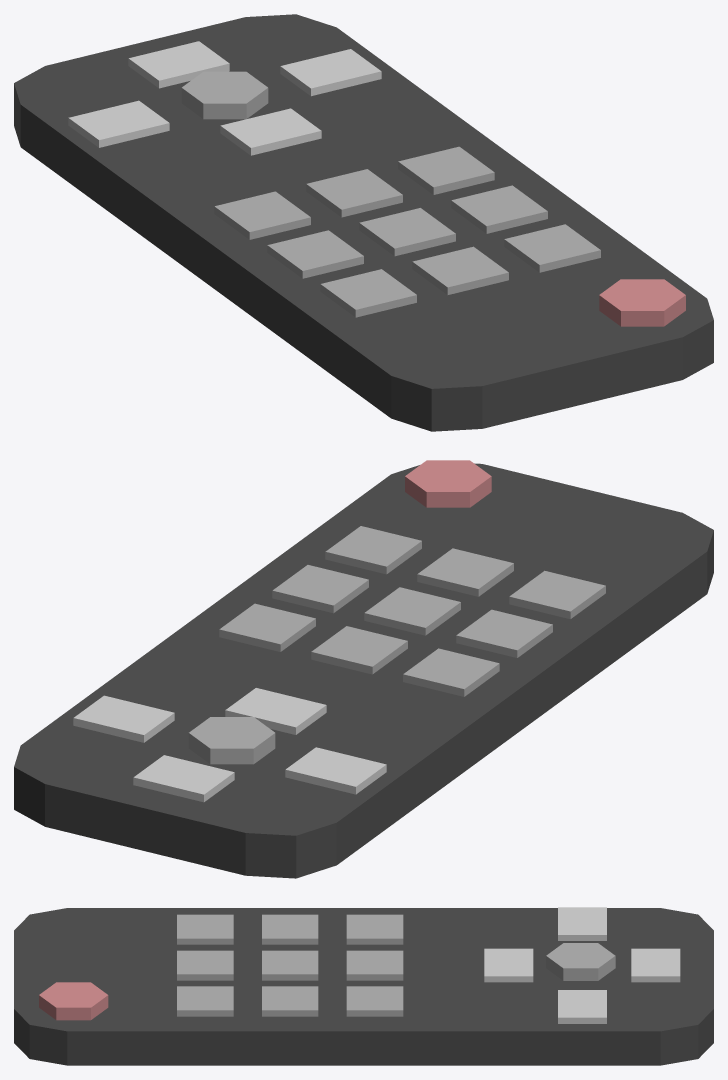
The model's file is tv_remote.fbx.
3 renders of one model, top to bottom at view 1: azimuth 30°, elevation 25°; view 2: azimuth 150°, elevation 25°; view 3: azimuth 270°, elevation 25°, orthographic. The views are drawn at different scales.
Parts seen in each view (by area): view 1: Cube.006, Cube.007, Cube.011, Cylinder.010, Cylinder.009; view 2: Cube.006, Cube.007, Cube.011, Cylinder.010, Cylinder.009; view 3: Cube.006, Cube.007, Cube.011, Cylinder.009, Cylinder.010.
Part boxes in pixels (bbox=[...]): Cube.006: bbox=[14, 14, 713, 431]; Cube.007: bbox=[214, 146, 600, 317]; Cube.011: bbox=[68, 41, 381, 155]; Cylinder.010: bbox=[181, 71, 268, 119]; Cylinder.009: bbox=[599, 279, 685, 326]; Cube.006: bbox=[14, 463, 713, 878]; Cube.007: bbox=[219, 526, 605, 696]; Cube.011: bbox=[73, 688, 386, 802]; Cylinder.010: bbox=[188, 717, 275, 764]; Cylinder.009: bbox=[405, 460, 491, 507]; Cube.006: bbox=[14, 908, 713, 1065]; Cube.007: bbox=[177, 914, 403, 1016]; Cube.011: bbox=[484, 907, 680, 1023]; Cylinder.009: bbox=[39, 982, 108, 1020]; Cylinder.010: bbox=[546, 943, 615, 980].
Size of the model in its own units: 8.39 by 1.48 by 20.1.
